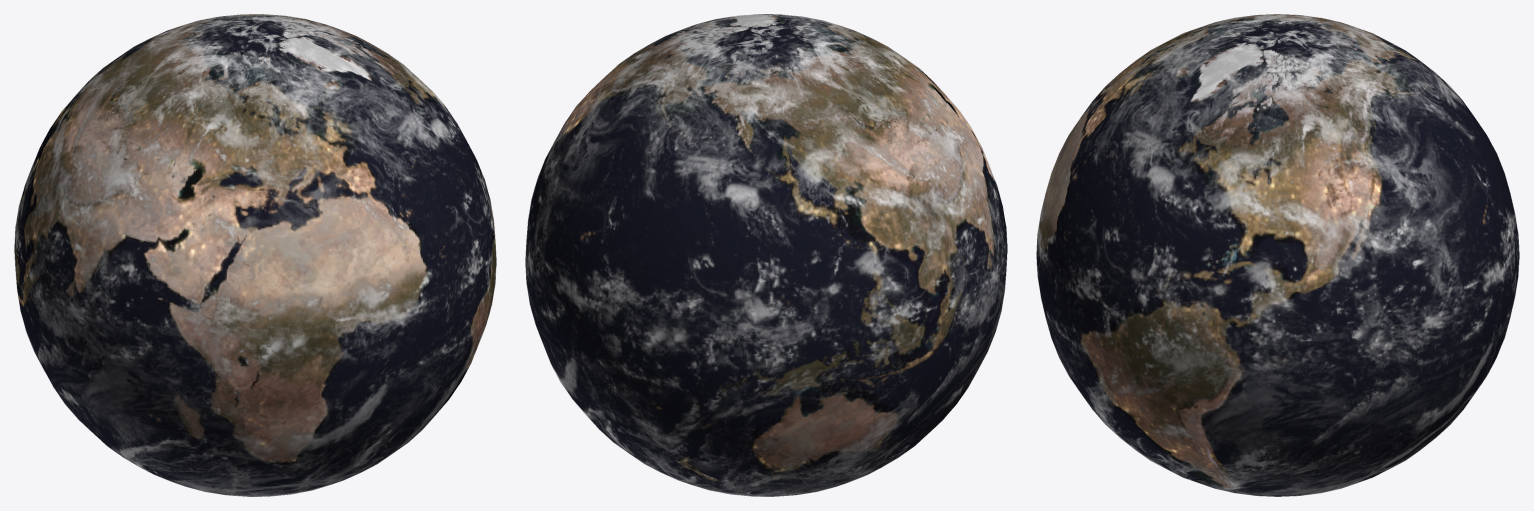
File: earth.gltf
3 views of the same model, side by side, from view 1: azimuth 30°, elevation 25°; view 2: azimuth 150°, elevation 25°; view 3: azimuth 270°, elevation 25° (orthographic).
Parts seen in each view (by area): view 1: Earth_Diffuse_6K, Earth_Diffuse_6K.001; view 2: Earth_Diffuse_6K, Earth_Diffuse_6K.001; view 3: Earth_Diffuse_6K, Earth_Diffuse_6K.001.
Part boxes in pixels (x1,y1,x2,y2): Earth_Diffuse_6K: [14, 14, 496, 496]; Earth_Diffuse_6K.001: [14, 14, 496, 496]; Earth_Diffuse_6K: [525, 14, 1007, 496]; Earth_Diffuse_6K.001: [525, 14, 1007, 496]; Earth_Diffuse_6K: [1036, 14, 1519, 496]; Earth_Diffuse_6K.001: [1036, 14, 1519, 496].
Size of the model in its own units: 1.42 by 1.42 by 1.42.
Materials: 2 (2 with a texture image).
